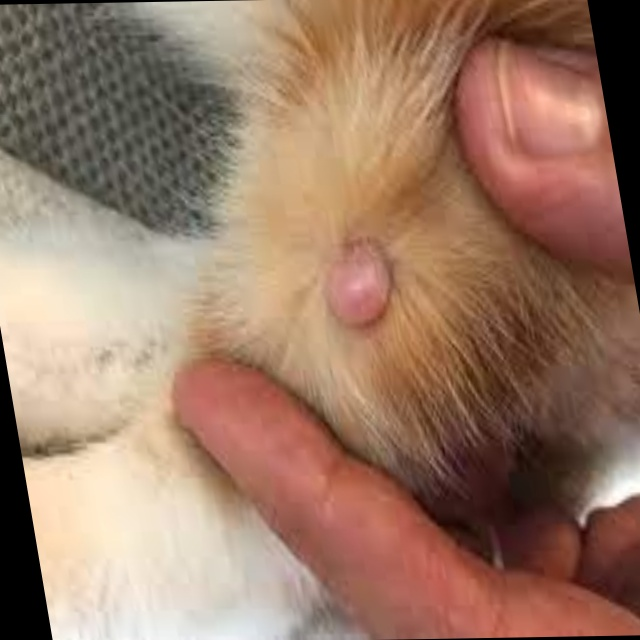lump_and_bump: (317, 242, 403, 326)
